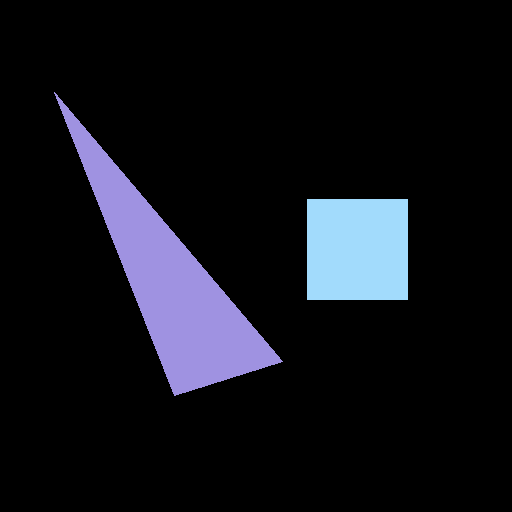square: (307, 199, 407, 299)
triangle: (54, 92, 282, 395)
